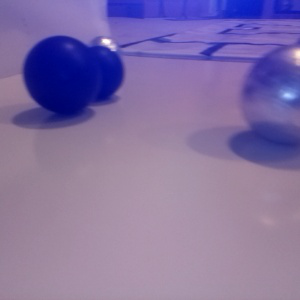alive_ball: (239, 44, 300, 145), (88, 35, 120, 68)
dead_ball: (22, 34, 98, 114), (76, 44, 125, 100)
